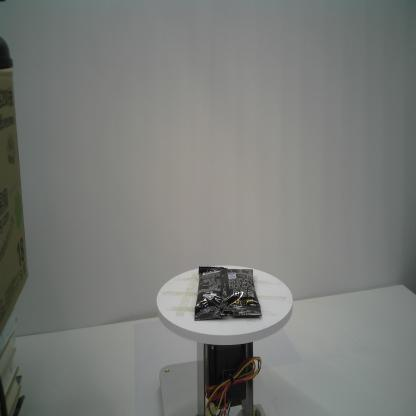Instant Drink: (194, 266, 262, 321)
